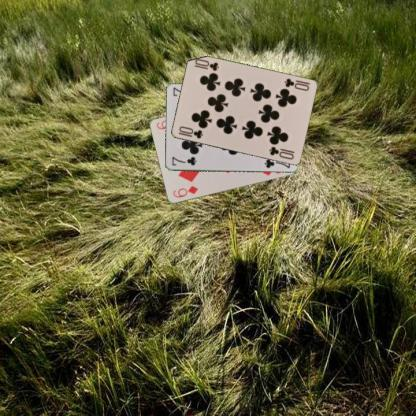10c: (281, 76, 311, 92), (176, 124, 204, 140)
6d: (170, 183, 199, 199)
7c: (169, 154, 198, 167)
